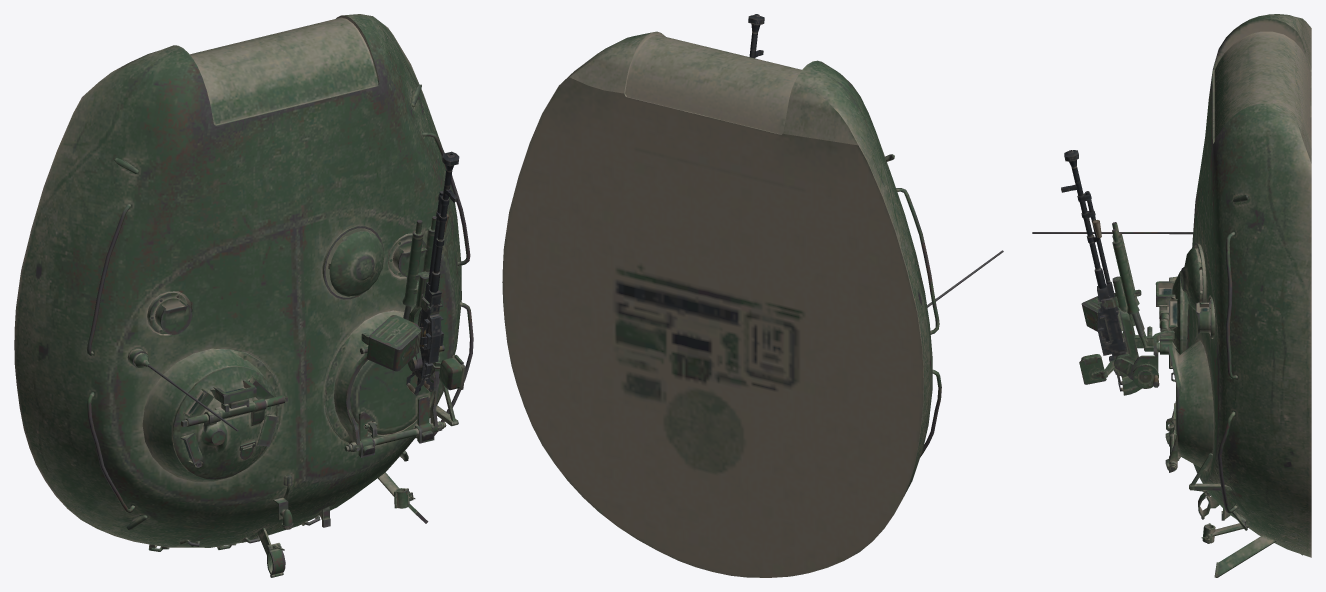
File: Turret_01.glb
3 renders of one model, left to right at view 1: azimuth 30°, elevation 25°; view 2: azimuth 150°, elevation 25°; view 3: azimuth 270°, elevation 25°, orthographic. The views are drawn at different scales.
Visible parts, largest first — view 1: set_0_group_0; view 2: set_0_group_0; view 3: set_0_group_0.
Part boxes in pixels (x1,y1,x2,y2): set_0_group_0: [14, 14, 473, 577]; set_0_group_0: [502, 14, 1003, 577]; set_0_group_0: [1032, 14, 1311, 577].
Size of the model in its own units: 2.81 by 3.25 by 1.7.
1 material, 1 textured.
